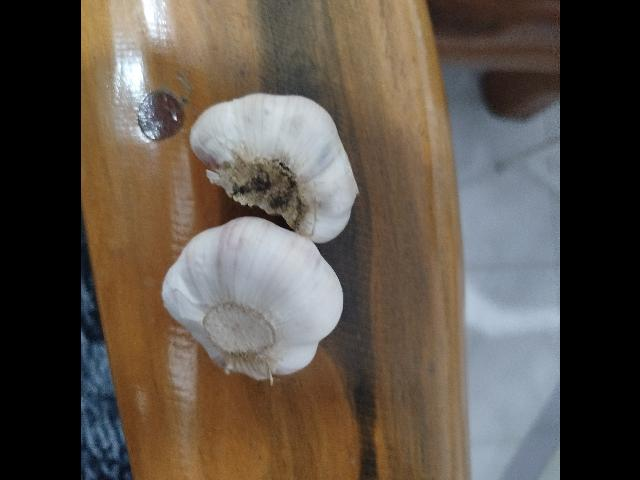garlic: (160, 216, 344, 384), (189, 92, 359, 244)
